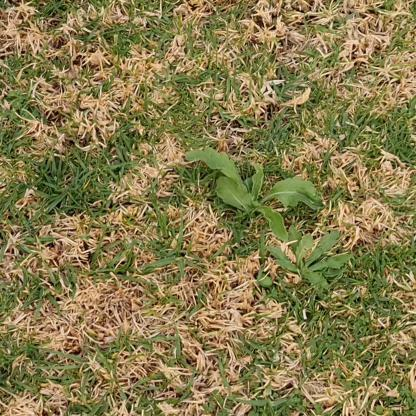Weeds: (185, 146, 325, 240), (258, 226, 352, 295)
